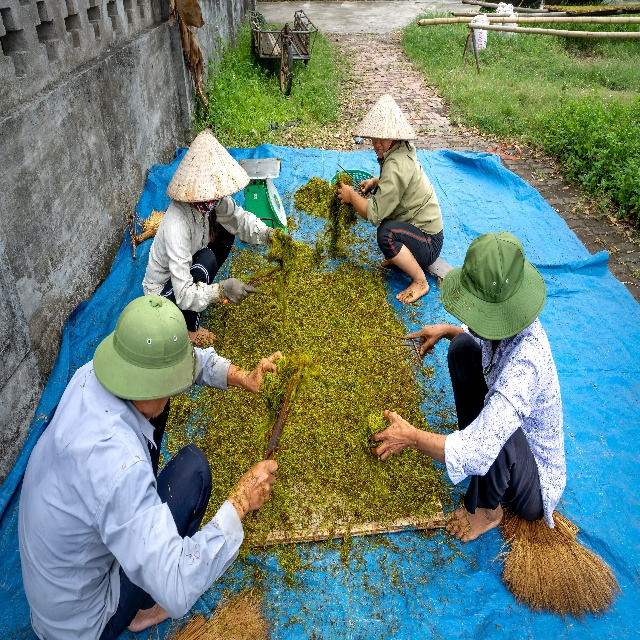Guantes: (220, 278, 258, 304), (266, 226, 292, 246)
Sin_guantes: (237, 459, 278, 512), (371, 409, 411, 462), (247, 350, 283, 395), (406, 324, 444, 357), (338, 181, 355, 205), (358, 178, 374, 199)
